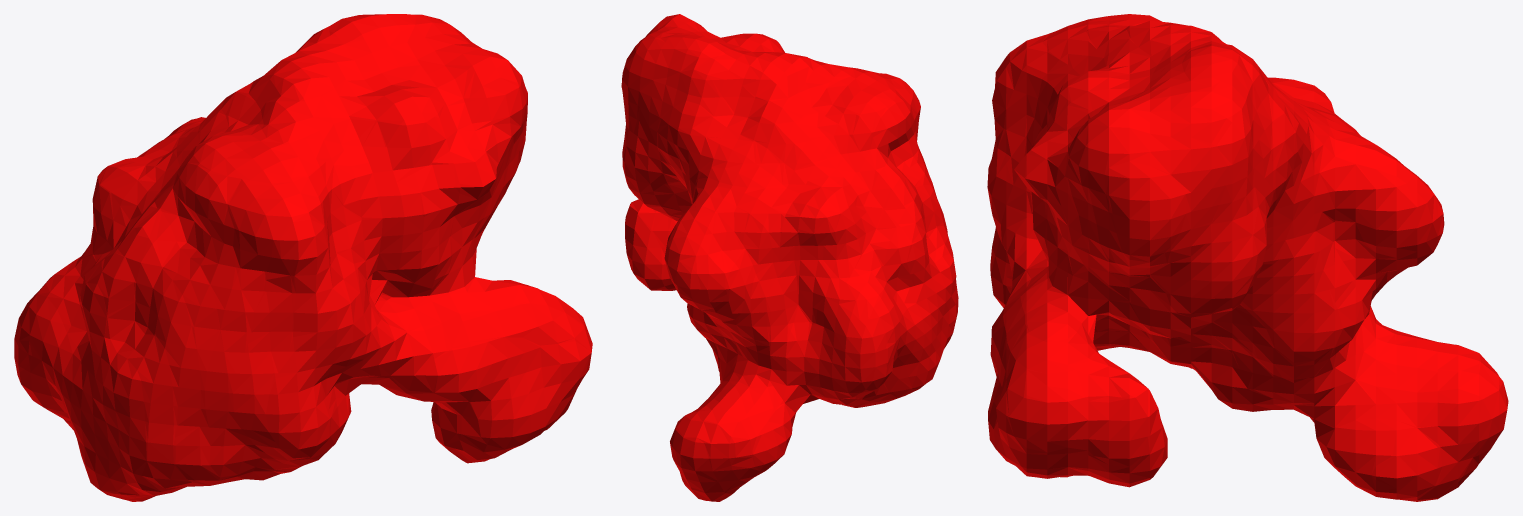
File: pgi_coarse.dae
The picture shows the model from 3 angles, left to right: view 1: azimuth 30°, elevation 25°; view 2: azimuth 150°, elevation 25°; view 3: azimuth 270°, elevation 25°; orthographic projection. The views are drawn at different scales.
Parts seen in each view (by area): view 1: pgi; view 2: pgi; view 3: pgi.
Part boxes in pixels (<box>): pgi: <box>14,14,592,501</box>; pgi: <box>621,14,958,501</box>; pgi: <box>987,14,1508,501</box>.
Size of the model in its own units: 70.76 by 75.81 by 70.67.
